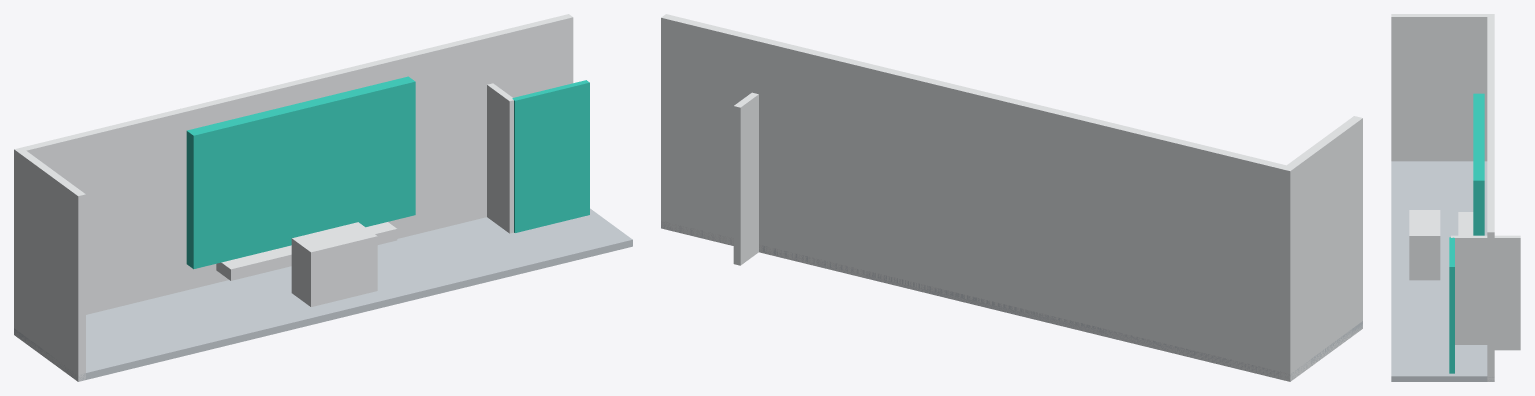
3 renders of one model, left to right at view 1: azimuth 30°, elevation 25°; view 2: azimuth 150°, elevation 25°; view 3: azimuth 270°, elevation 25°, orthographic. The views are drawn at different scales.
Visible parts, largest first — view 1: Exhibition Booth Concept; view 2: Exhibition Booth Concept; view 3: Exhibition Booth Concept.
Part boxes in pixels (x1=…): Exhibition Booth Concept: x1=14, y1=14, x2=632, y2=381; Exhibition Booth Concept: x1=661, y1=14, x2=1362, y2=381; Exhibition Booth Concept: x1=1391, y1=14, x2=1520, y2=381.
Bounding box in the file's own units: 10 × 3.2 × 2.5.
